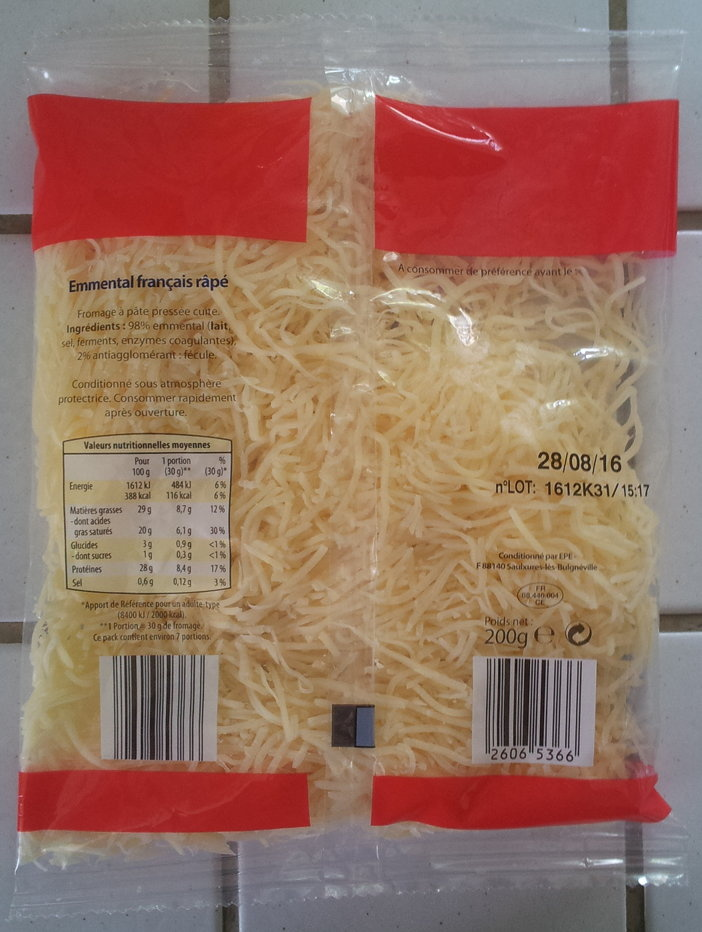column: (67, 481, 122, 597), (161, 450, 193, 598), (125, 457, 155, 588), (204, 452, 228, 598)
table: (59, 432, 234, 598)
